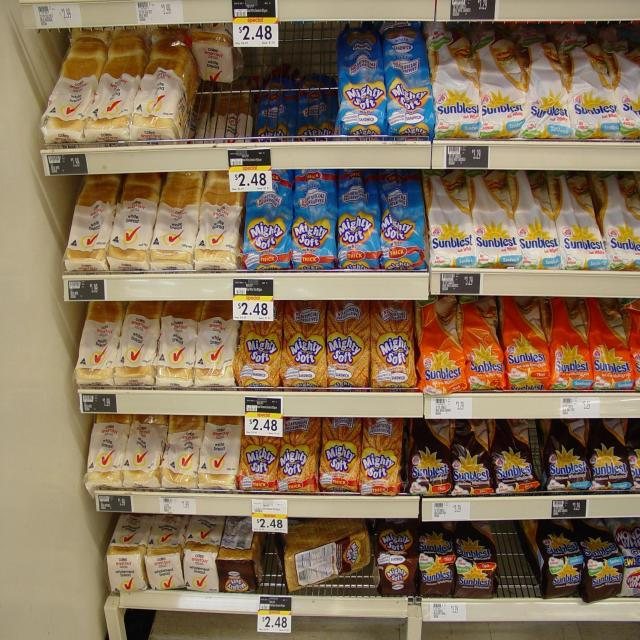empty_space: (204, 69, 325, 131), (504, 531, 534, 590)
